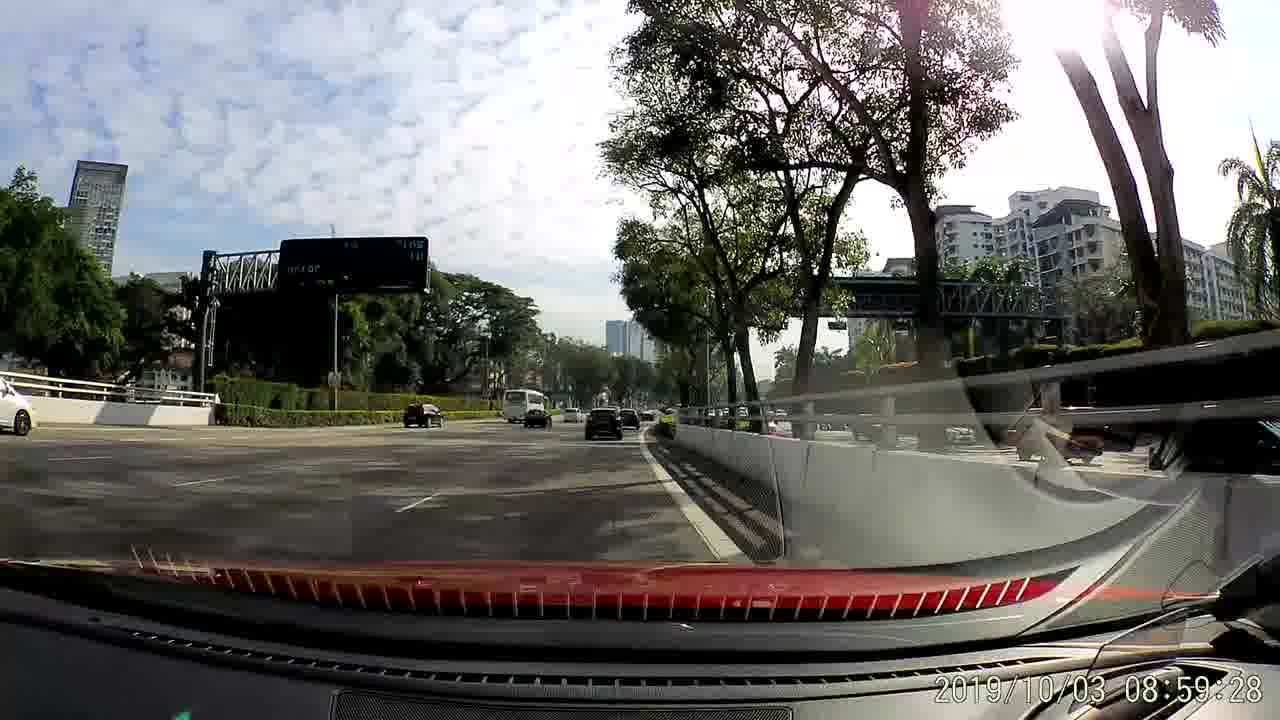car: (0, 372, 41, 435), (583, 406, 624, 439), (403, 399, 445, 427), (524, 406, 553, 429), (616, 406, 642, 427), (561, 405, 584, 422)
